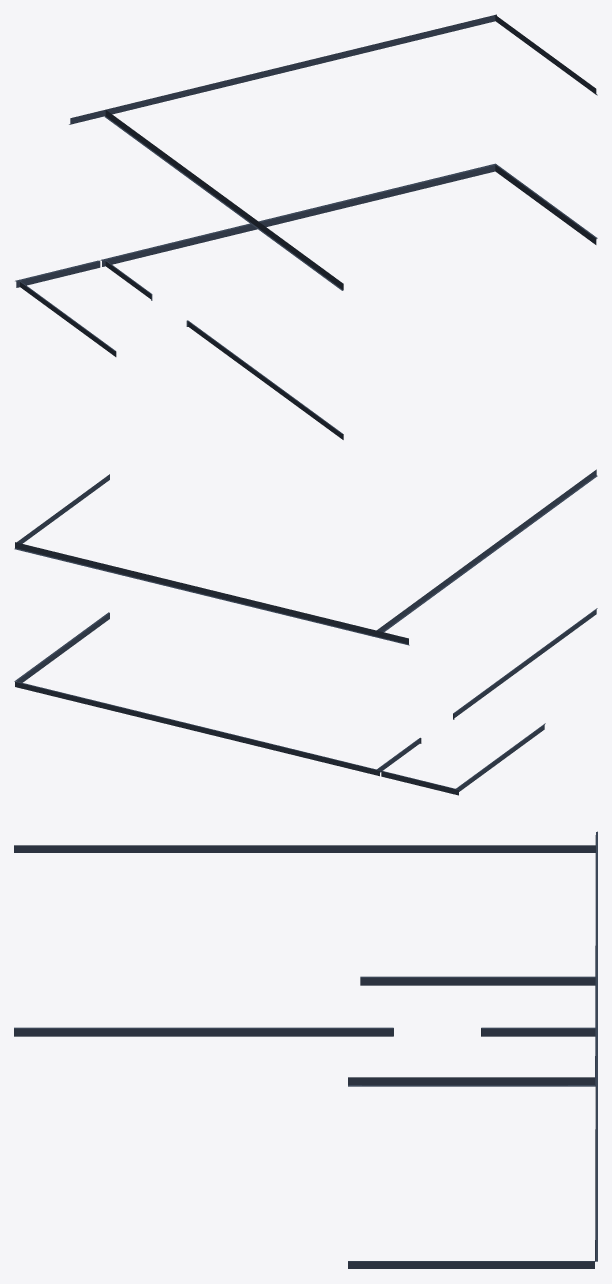
File: vladikavkaz prison control wall edge.fbx
3 views of the same model, one above another, from view 1: azimuth 30°, elevation 25°; view 2: azimuth 150°, elevation 25°; view 3: azimuth 270°, elevation 25° (orthographic). The views are drawn at different scales.
Visible parts, largest first — view 1: control room inside wall edge; view 2: control room inside wall edge; view 3: control room inside wall edge.
Part boxes in pixels (x1,y1,x2,y2): control room inside wall edge: (15, 14, 597, 439); control room inside wall edge: (14, 469, 597, 795); control room inside wall edge: (14, 831, 597, 1268).
Size of the model in its own units: 1126 by 350 by 967.
